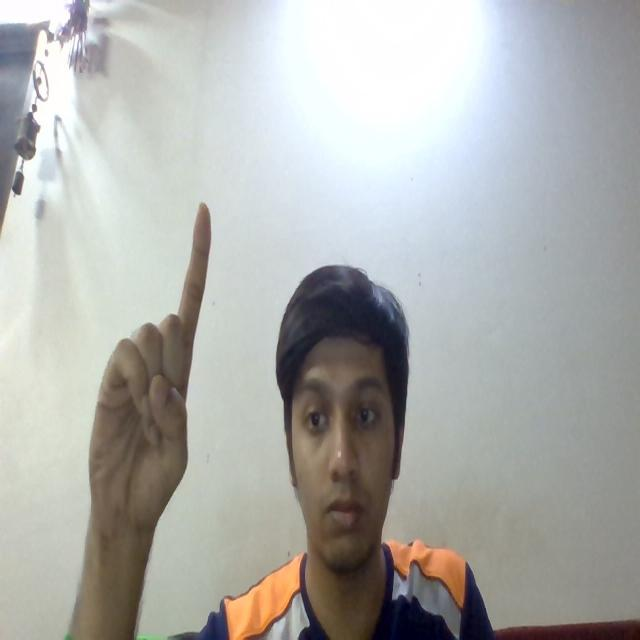Z: (59, 188, 234, 548)
